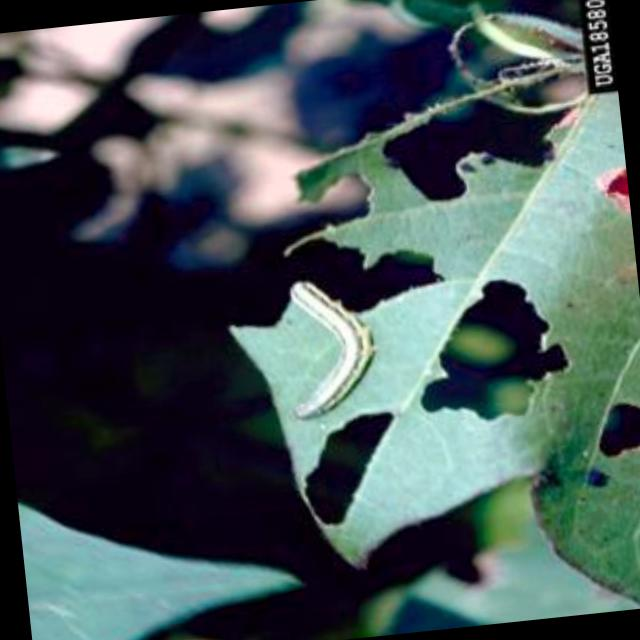Beet armyworm: (254, 268, 390, 432)
